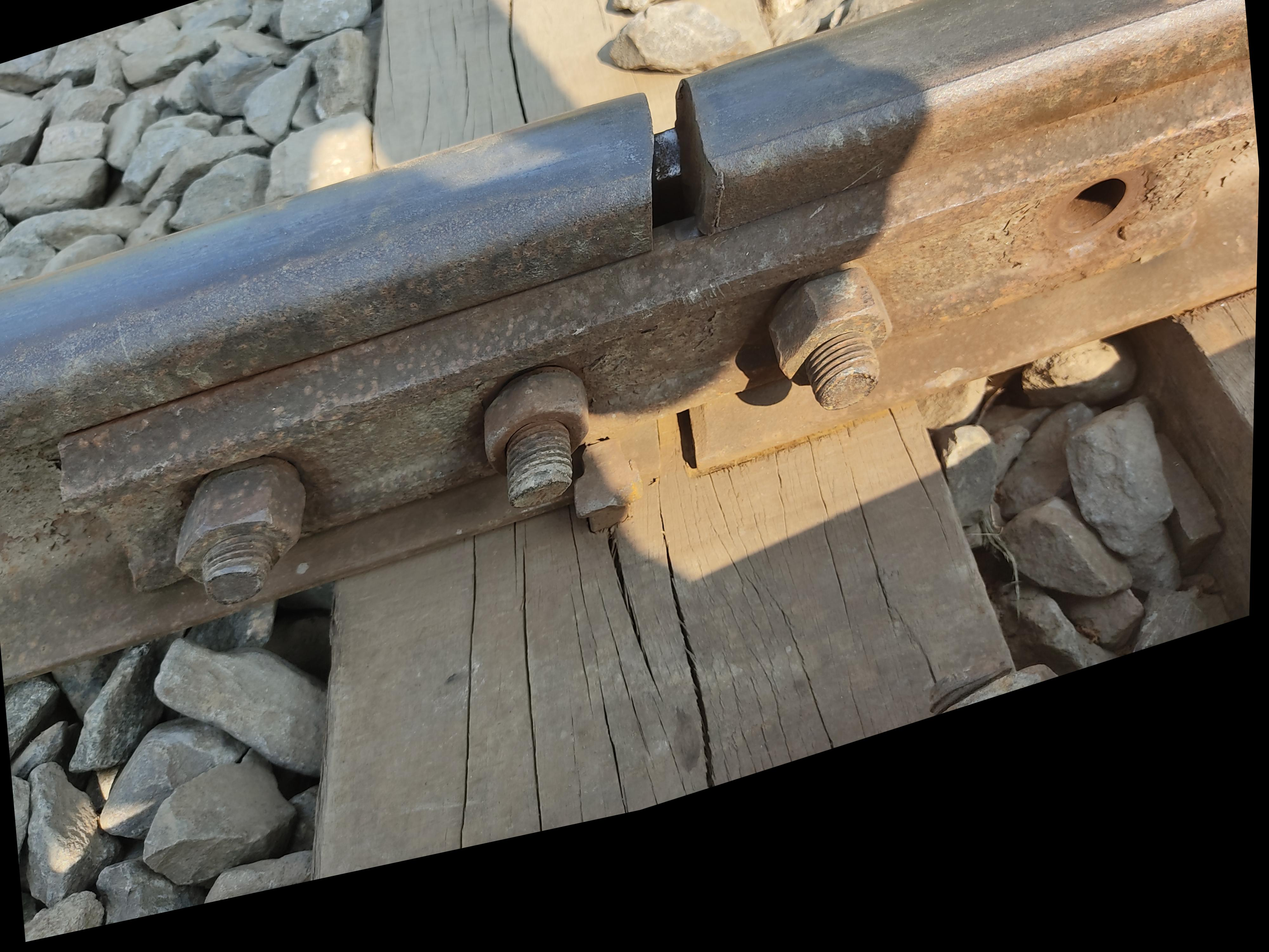person: (504, 144, 740, 397), (574, 472, 692, 619)
